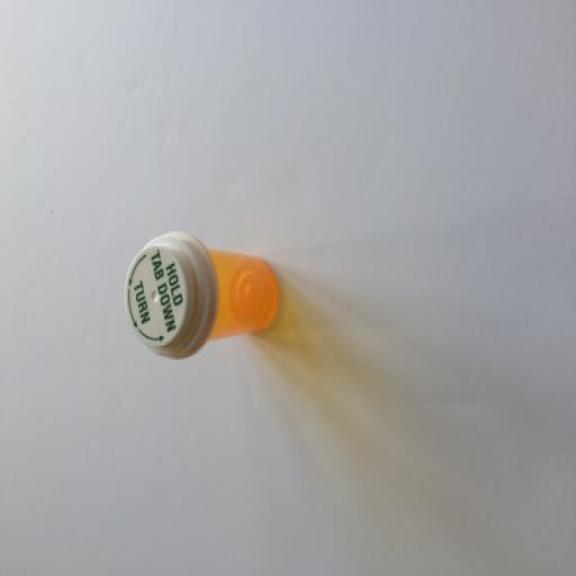Plastik: (113, 215, 285, 364)
